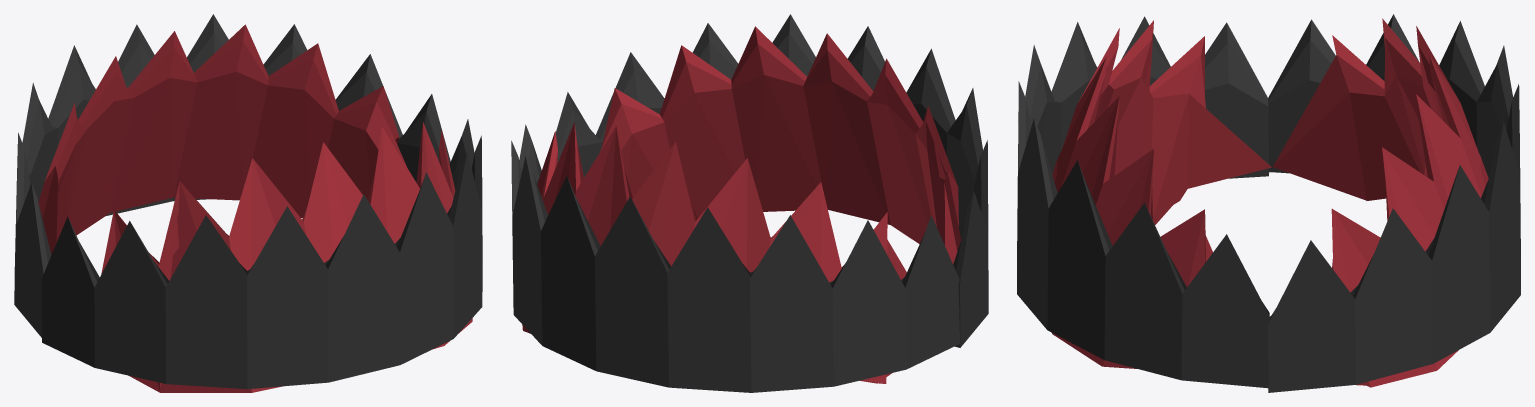
File: hole.fbx
The picture shows the model from 3 angles, left to right: view 1: azimuth 30°, elevation 25°; view 2: azimuth 150°, elevation 25°; view 3: azimuth 270°, elevation 25°; orthographic projection. The views are drawn at different scales.
Visible parts, largest first — view 1: Trap Second_half, Trap Second_half.003, Trap Second_half.001; view 2: Trap Second_half.001, Trap Second_half.003, Trap Second_half; view 3: Trap Second_half.003, Trap Second_half, Trap Second_half.001.
Boxes of the visible parts, x1=… form: Trap Second_half: x1=41, y1=119, x2=482, y2=389; Trap Second_half.003: x1=38, y1=24, x2=472, y2=392; Trap Second_half.001: x1=14, y1=14, x2=450, y2=337; Trap Second_half.001: x1=511, y1=124, x2=959, y2=392; Trap Second_half.003: x1=522, y1=26, x2=961, y2=383; Trap Second_half: x1=555, y1=14, x2=988, y2=347; Trap Second_half.003: x1=1052, y1=18, x2=1488, y2=387; Trap Second_half: x1=1017, y1=16, x2=1269, y2=388; Trap Second_half.001: x1=1267, y1=14, x2=1520, y2=392.
Size of the model in its own units: 926 by 495 by 900.
